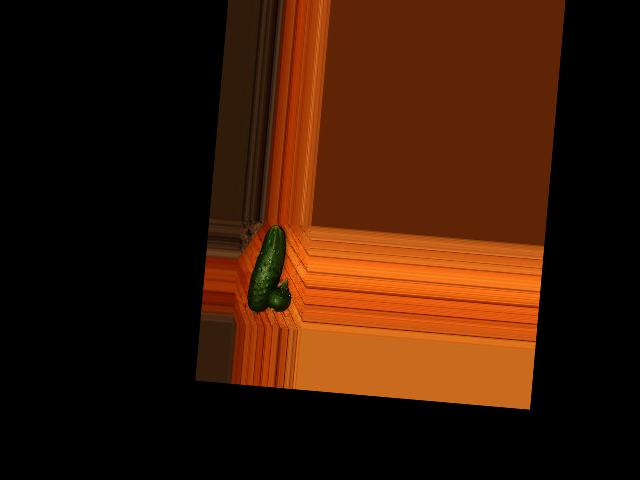cucumber: (246, 223, 287, 314)
